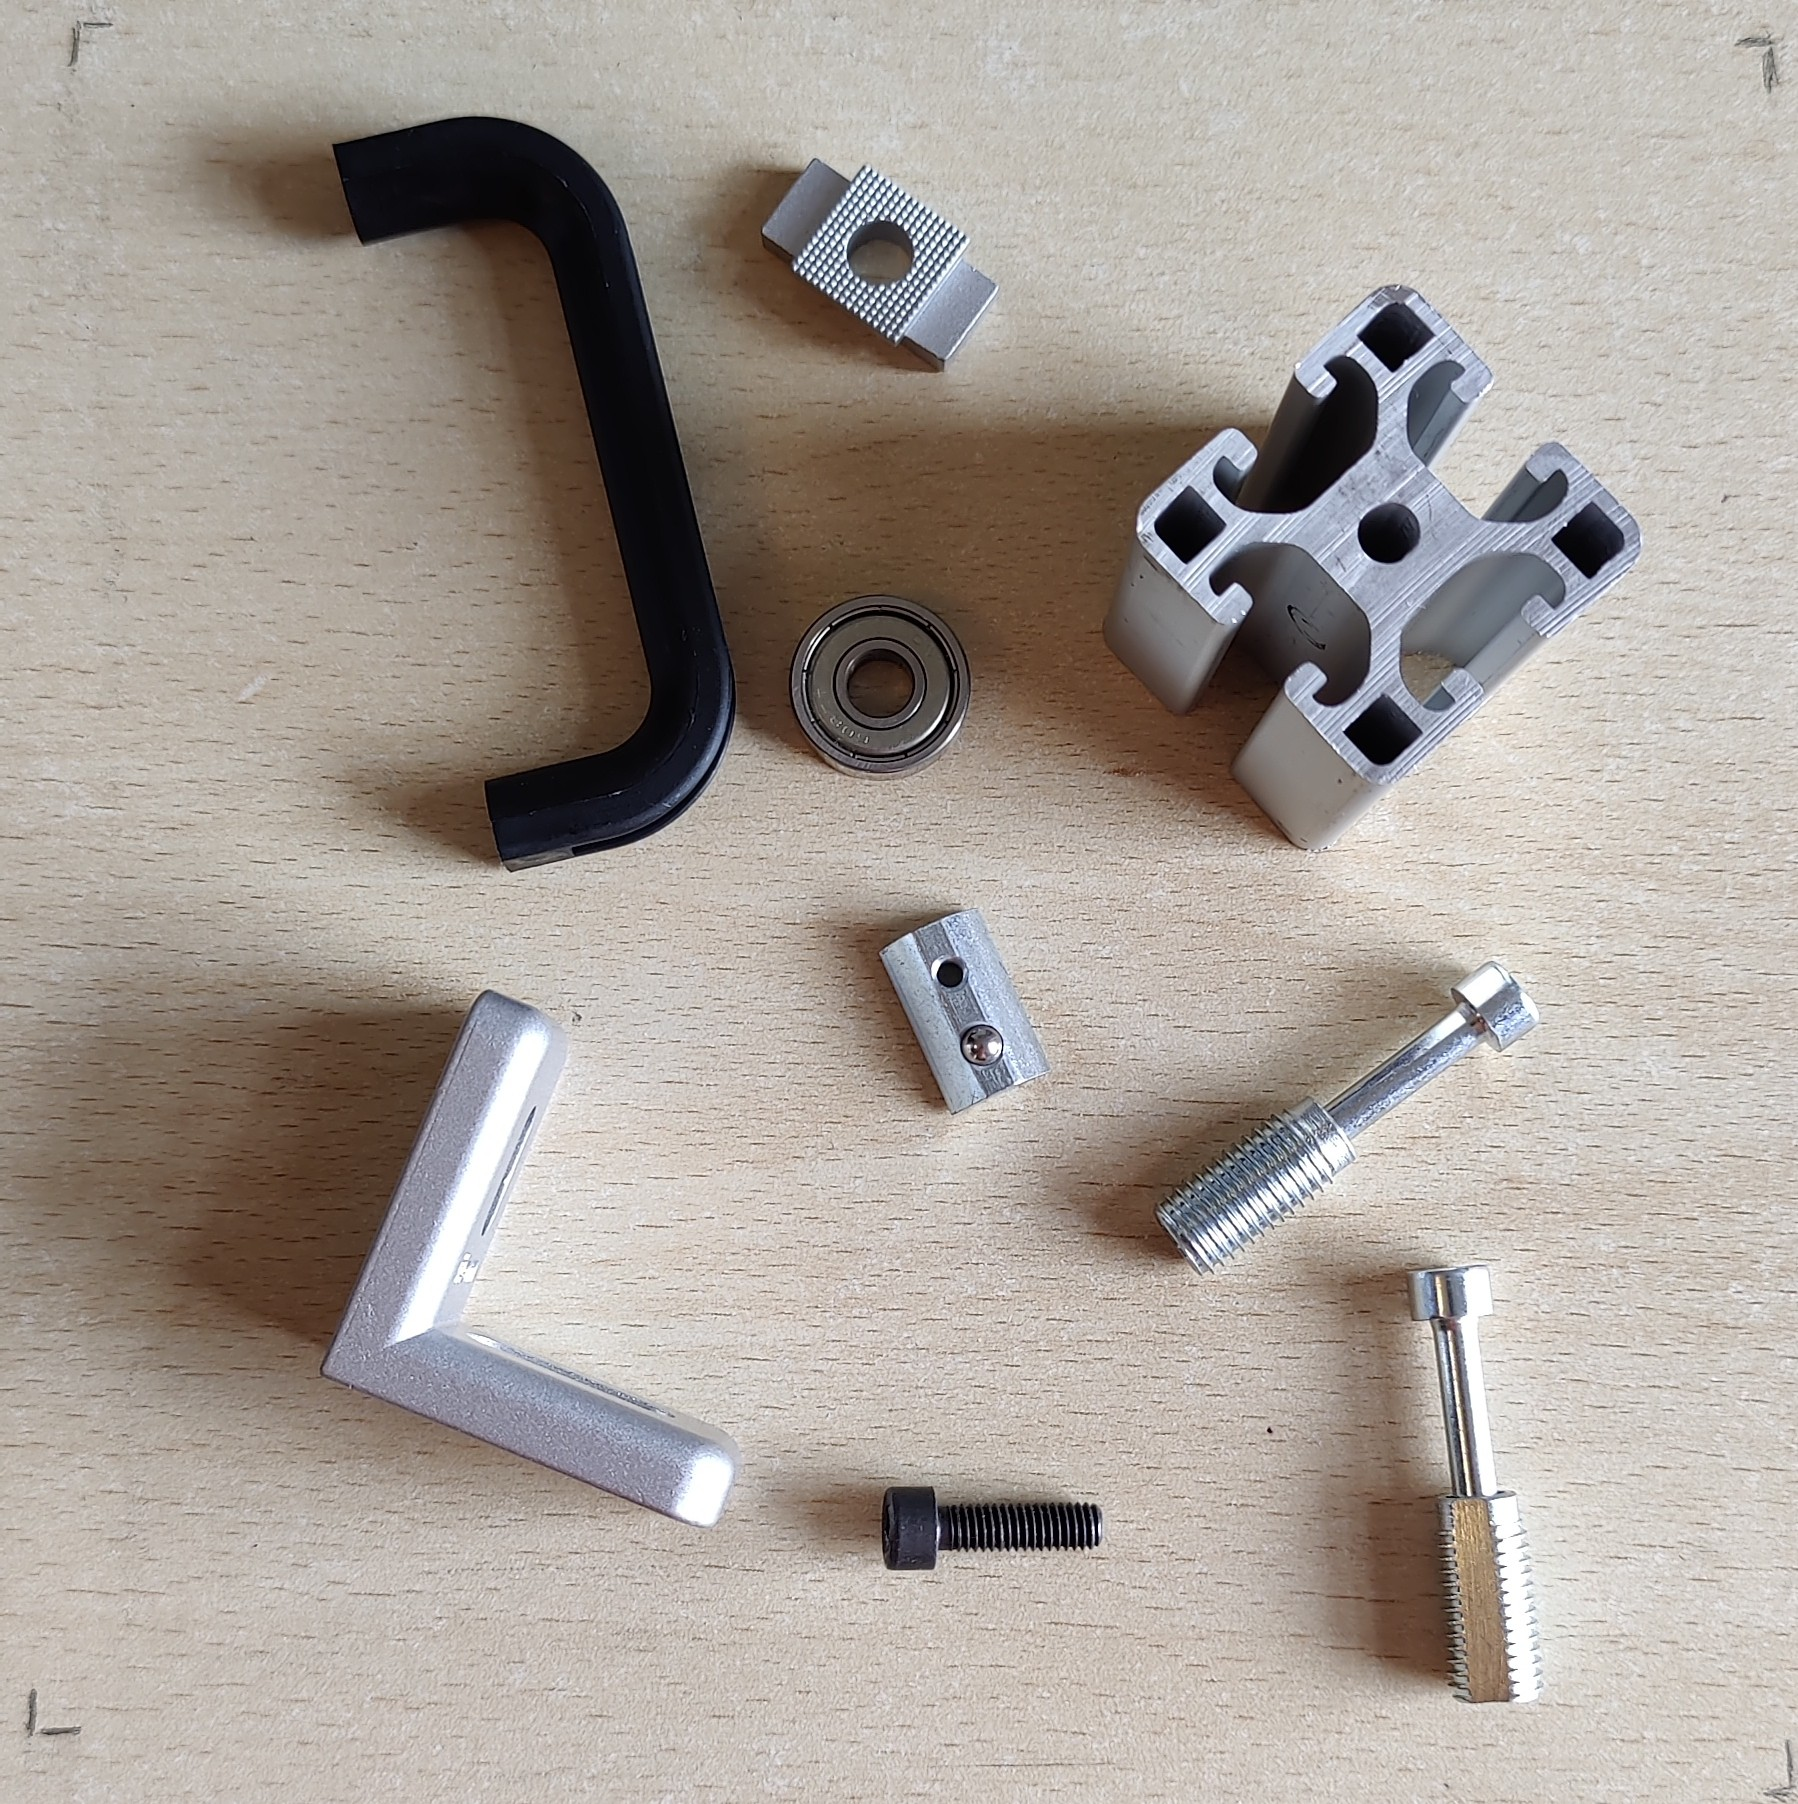Aluminium Extension: (1102, 281, 1643, 853)
Ball Bearing: (787, 589, 975, 780)
Multiwinkel: (318, 984, 744, 1532)
Pull Handle: (328, 112, 739, 877)
Shoulder Socket Head Cap Screw: (1151, 960, 1544, 1282), (1401, 1259, 1548, 1709)
Socket Head Cap Screw: (878, 1485, 1106, 1574)
T Nut Square: (757, 156, 1003, 374)
T Spring Nut: (878, 907, 1055, 1116)
